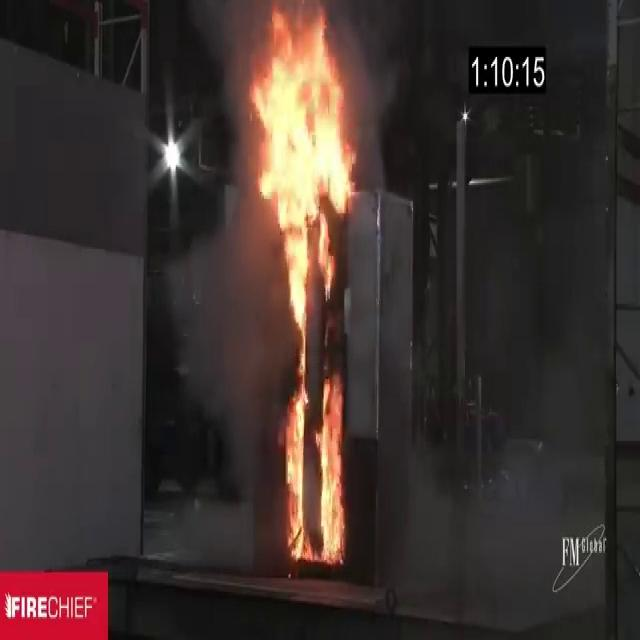fire: (241, 4, 339, 569)
